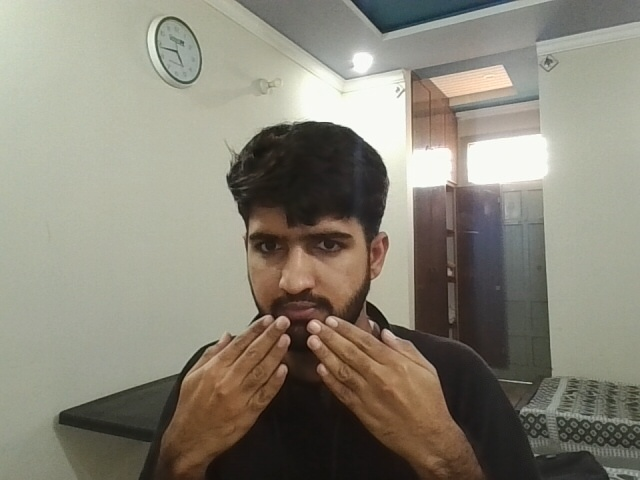Thanks: (141, 307, 507, 471)
